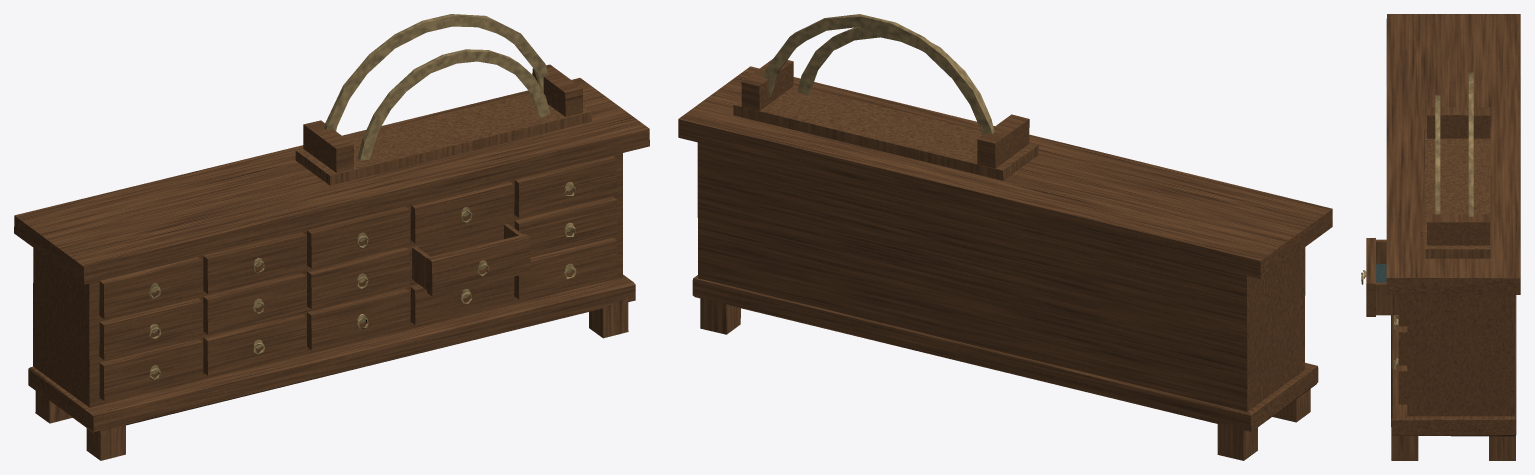
Rendered from ArcCabinet_LOD2.fbx.
3 views of the same model, side by side, from view 1: azimuth 30°, elevation 25°; view 2: azimuth 150°, elevation 25°; view 3: azimuth 270°, elevation 25° (orthographic). The views are drawn at different scales.
Visible parts, largest first — view 1: ArcCabinet.001; view 2: ArcCabinet.001; view 3: ArcCabinet.001.
Part boxes in pixels (x1,y1,x2,y2): ArcCabinet.001: [14, 14, 649, 460]; ArcCabinet.001: [678, 14, 1332, 460]; ArcCabinet.001: [1361, 14, 1520, 460].
Bounding box in the file's own units: 2.43 × 1.31 × 0.6195.
1 material, 1 textured.
